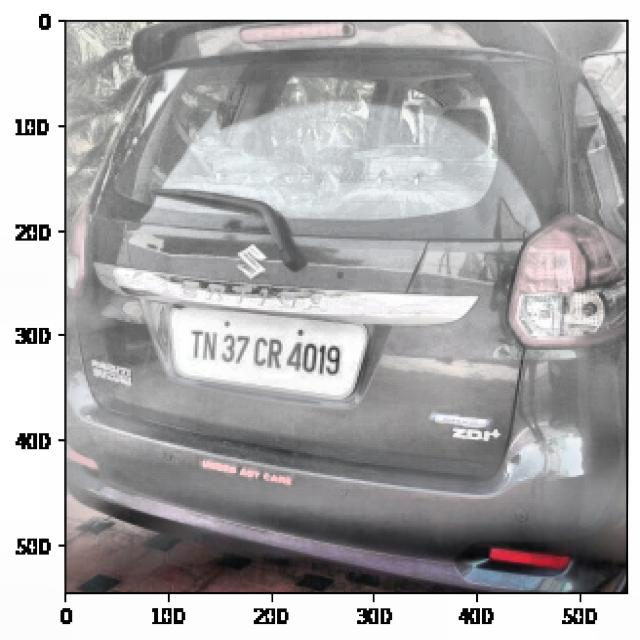license_plate: (187, 318, 346, 392)
